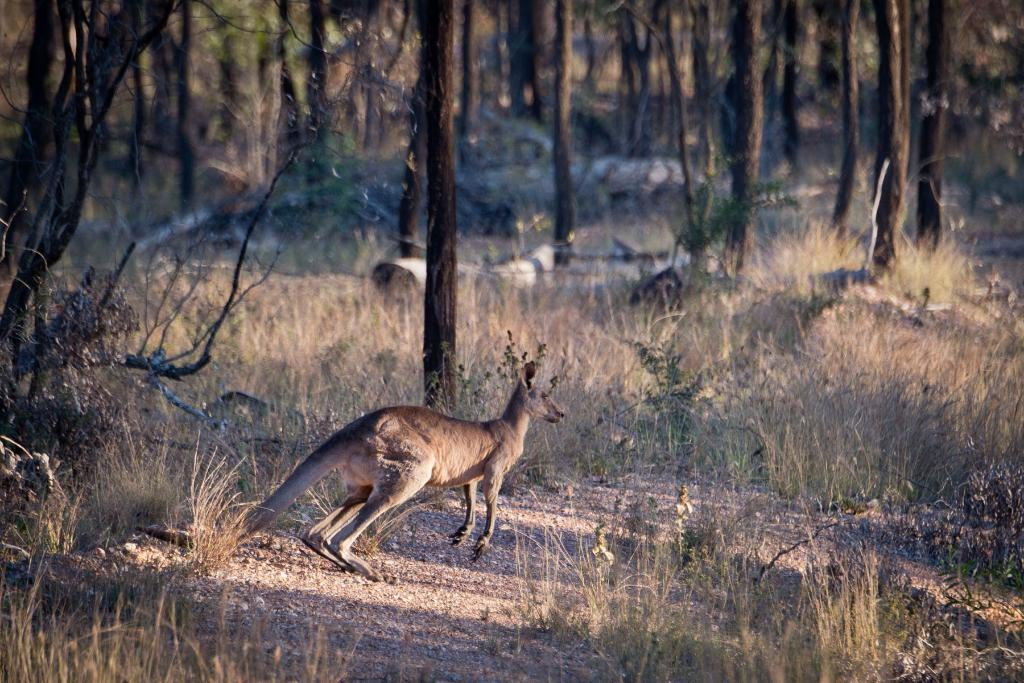kangaroo: (128, 359, 562, 579)
